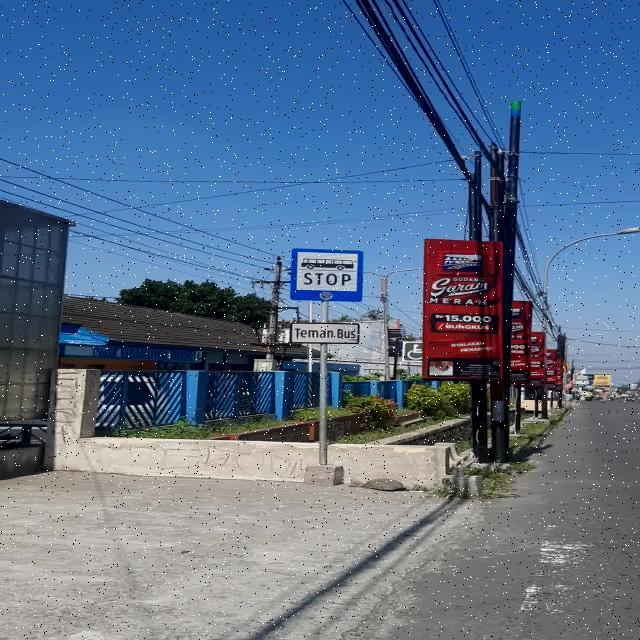Pemberhentian Bus: (290, 248, 364, 302)
